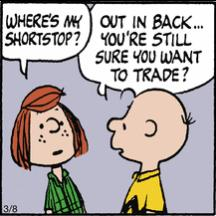charlie: (105, 86, 197, 214)
